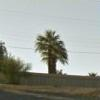Palm tree: (34, 20, 70, 82)
